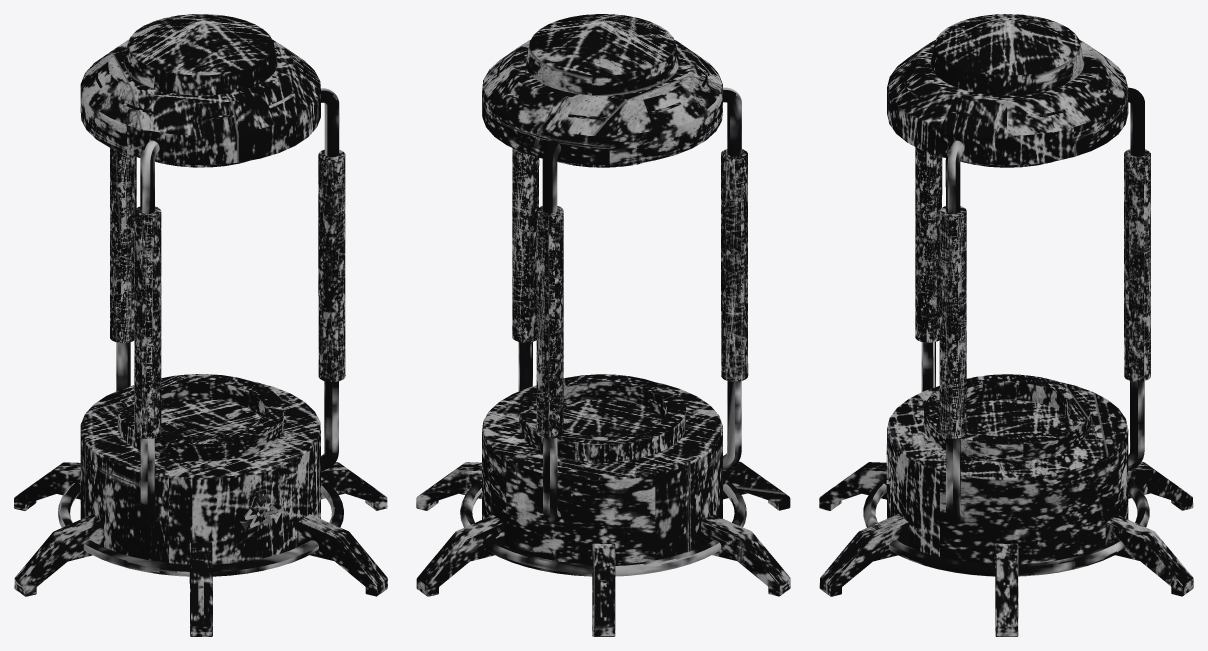
The picture shows the model from 3 angles, left to right: view 1: azimuth 30°, elevation 25°; view 2: azimuth 150°, elevation 25°; view 3: azimuth 270°, elevation 25°; orthographic projection.
Visible parts, largest first — view 1: Cylinder.030, Cylinder, Cylinder.020, Cylinder.040, Cylinder.002, Cylinder.032, Torus.002, Cylinder.019, Cylinder.033, Cylinder.018, Cylinder.031, Cylinder.025 (+6 smaller); view 2: Cylinder.030, Cylinder, Cylinder.020, Cylinder.032, Cylinder.040, Cylinder.002, Torus.002, Cylinder.033, Cylinder.029, Cylinder.031, Cylinder.025, Cylinder.018 (+5 smaller); view 3: Cylinder.030, Cylinder, Cylinder.020, Cylinder.002, Cylinder.032, Cylinder.040, Torus.002, Cylinder.019, Cylinder.029, Cylinder.025, Cylinder.018, Cylinder.031 (+5 smaller).
Part boxes in pixels (box(x1,y1,x2,y2)): Cylinder.030: box(80, 381, 320, 564); Cylinder: box(80, 14, 320, 165); Cylinder.020: box(117, 374, 283, 461); Cylinder.040: box(134, 206, 161, 438); Cylinder.002: box(318, 149, 345, 381); Cylinder.032: box(110, 148, 136, 342); Torus.002: box(58, 482, 343, 576); Cylinder.019: box(298, 514, 387, 596); Cylinder.033: box(14, 514, 103, 596); Cylinder.018: box(189, 542, 212, 636); Cylinder.031: box(14, 462, 80, 510); Cylinder.025: box(321, 462, 387, 510); Cylinder.030: box(482, 382, 722, 564); Cylinder: box(482, 14, 722, 165); Cylinder.020: box(519, 374, 685, 461); Cylinder.032: box(536, 206, 563, 438); Cylinder.040: box(721, 149, 748, 381); Cylinder.002: box(512, 148, 539, 342); Torus.002: box(460, 482, 746, 576); Cylinder.033: box(701, 514, 790, 596); Cylinder.029: box(416, 515, 504, 596); Cylinder.031: box(592, 543, 615, 636); Cylinder.025: box(416, 462, 481, 510); Cylinder.018: box(723, 461, 790, 510); Cylinder.030: box(887, 381, 1128, 564); Cylinder: box(887, 14, 1128, 165); Cylinder.020: box(924, 374, 1090, 461); Cylinder.002: box(939, 206, 966, 438); Cylinder.032: box(1124, 149, 1150, 381); Cylinder.040: box(915, 147, 942, 342); Torus.002: box(863, 482, 1149, 576); Cylinder.019: box(819, 514, 909, 596); Cylinder.029: box(1105, 514, 1193, 596); Cylinder.025: box(995, 543, 1018, 636); Cylinder.018: box(819, 462, 886, 510); Cylinder.031: box(1128, 461, 1193, 510).
Bounding box in the file's own units: 0.7042 × 0.9762 × 0.6282.
4 materials, 4 textured.
